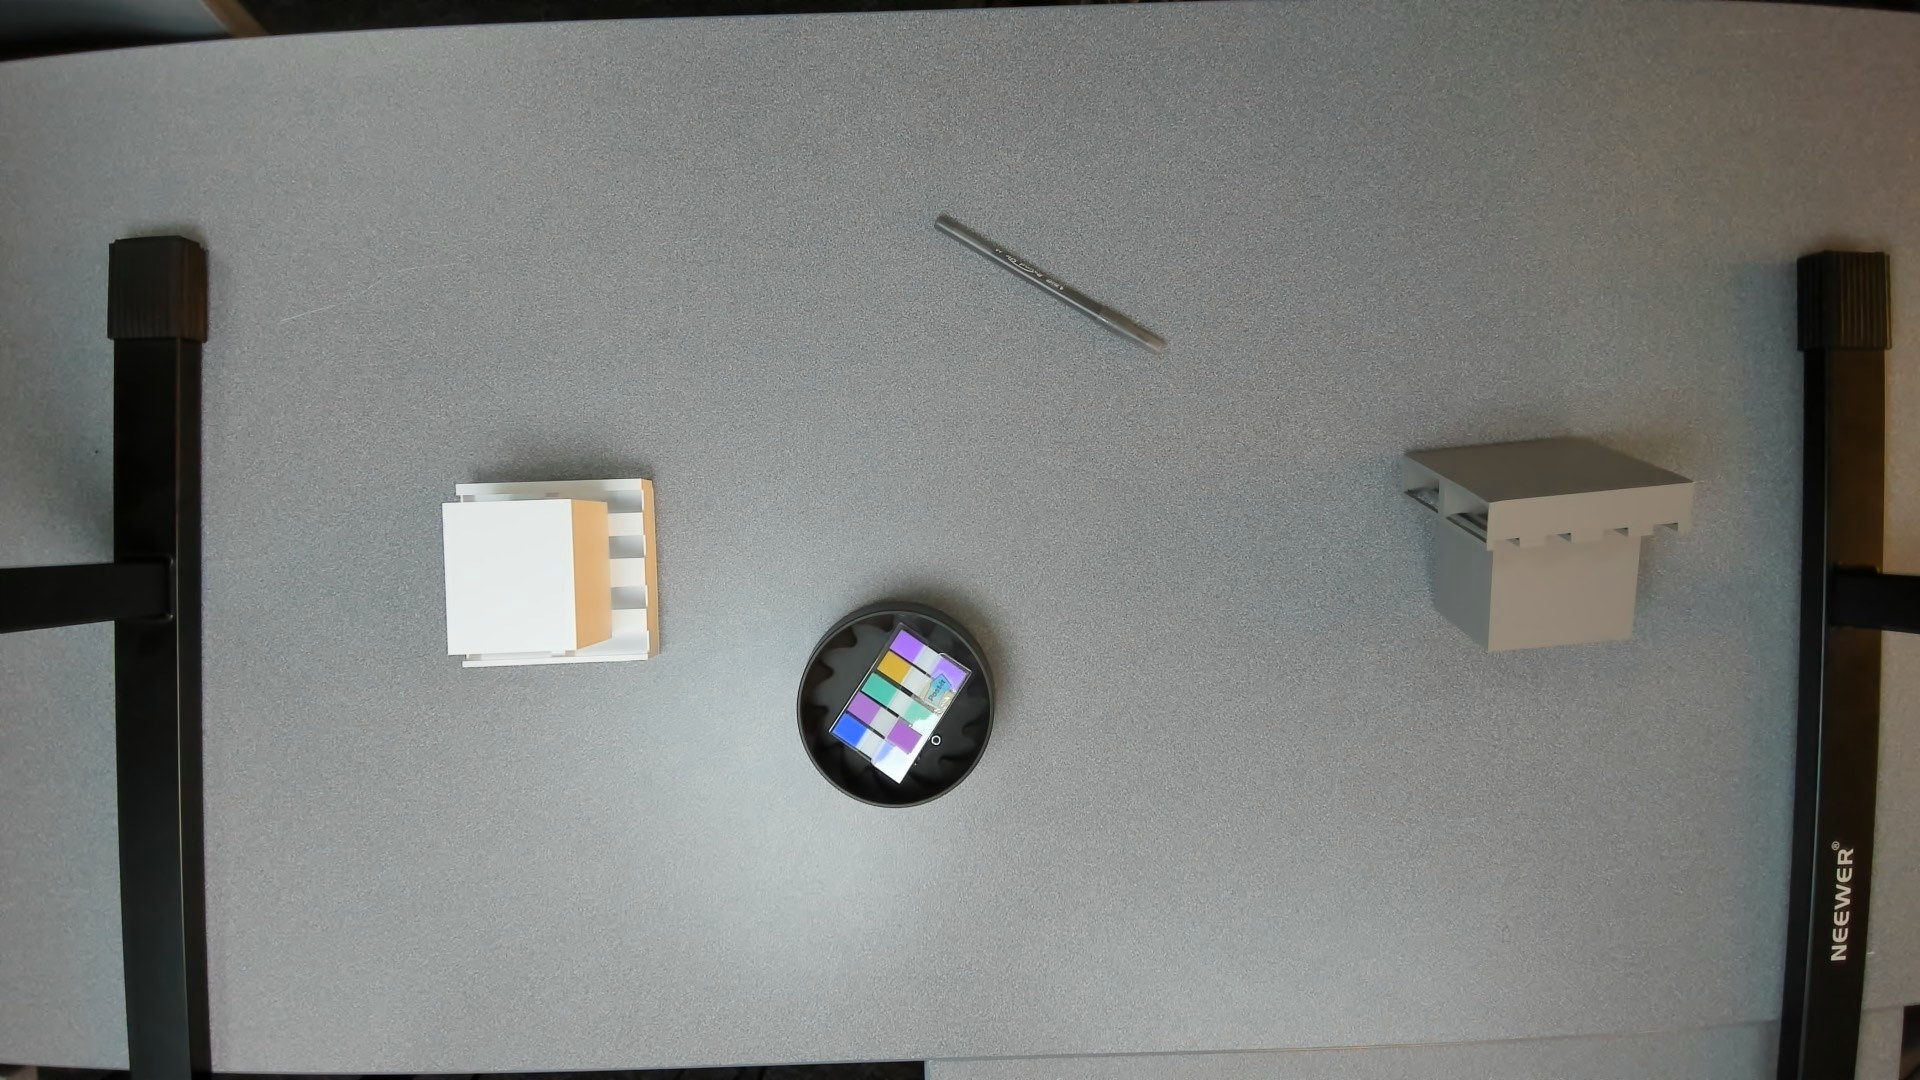grey pallet: (1396, 430, 1706, 676)
white pallet: (425, 455, 670, 680)
